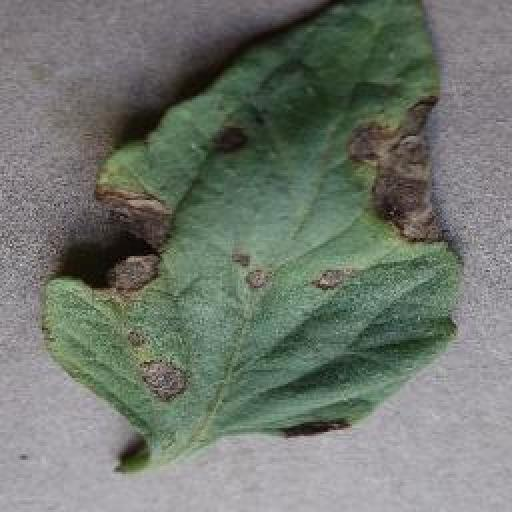Early Blight: (40, 0, 464, 436)
